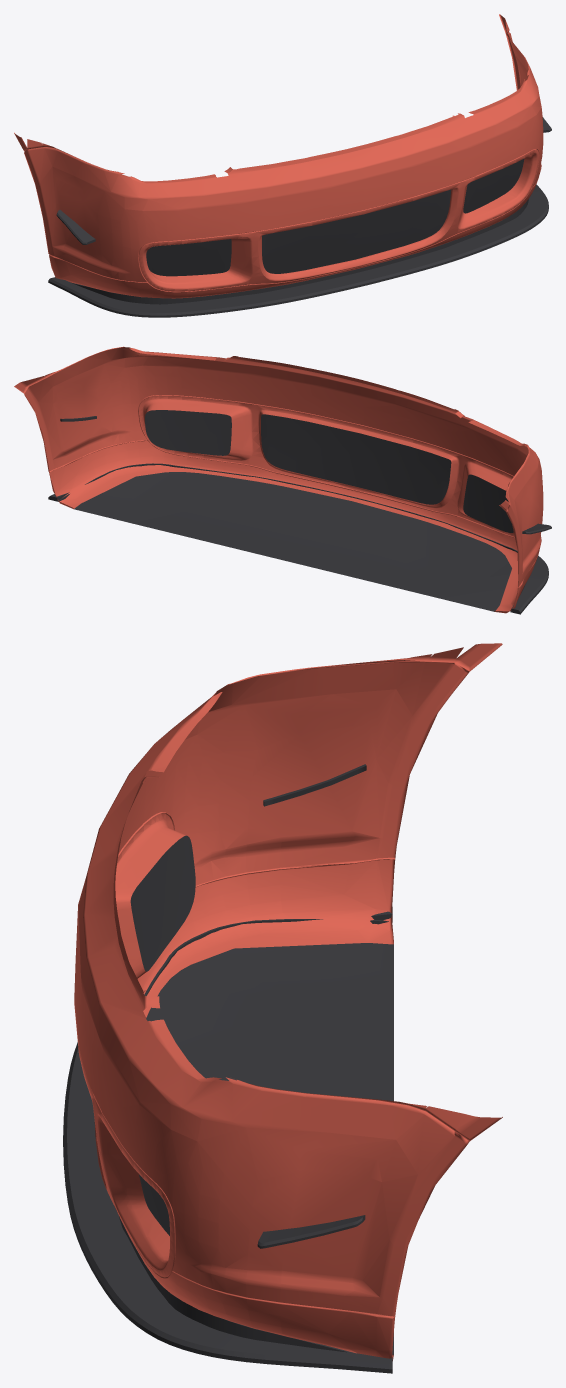
File: wendtStrom_frontBumper_trackBase.glb
3 views of the same model, one above another, from view 1: azimuth 30°, elevation 25°; view 2: azimuth 150°, elevation 25°; view 3: azimuth 270°, elevation 25° (orthographic). The views are drawn at different scales.
Parts seen in each view (by area): view 1: frontBumper_trackBase; view 2: frontBumper_trackBase; view 3: frontBumper_trackBase.
Part boxes in pixels (x1,y1,x2,y2): frontBumper_trackBase: [14, 14, 551, 317]; frontBumper_trackBase: [14, 346, 551, 614]; frontBumper_trackBase: [63, 643, 502, 1373].
Size of the model in its own units: 1.73 by 0.4573 by 0.6768.
